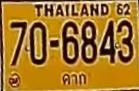0: (29, 21, 46, 64)
3: (116, 19, 132, 62)
4: (99, 20, 114, 62)
6: (62, 21, 78, 63)
7: (10, 21, 26, 65)
8: (81, 20, 96, 62)
TAK: (59, 70, 87, 84)
